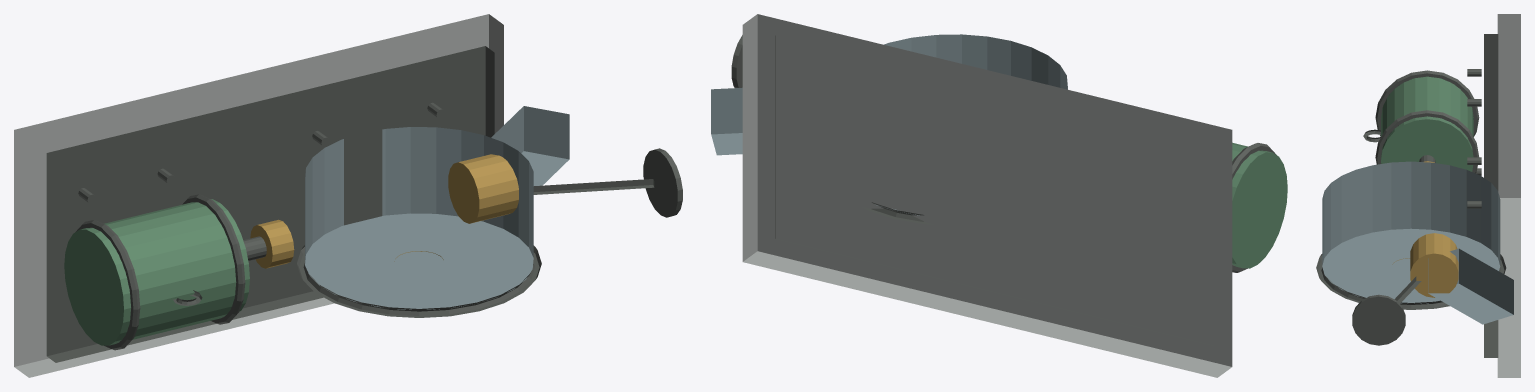
Rendered from generator.glb.
3 renders of one model, left to right at view 1: azimuth 30°, elevation 25°; view 2: azimuth 150°, elevation 25°; view 3: azimuth 270°, elevation 25°, orthographic. The views are drawn at different scales.
Visible parts, largest first — view 1: machine_bed, turbine_casing, concrete_base, generator_body, nozzle, pressure_pipe, casing_flange_front, handwheel, generator_end_-1.42, generator_end_-2.88, coupling, needle_valve_rod; view 2: concrete_base, generator_body, turbine_casing, pressure_pipe, machine_bed, generator_end_-2.88, casing_flange_front, handwheel; view 3: turbine_casing, concrete_base, generator_body, pressure_pipe, machine_bed, nozzle, handwheel, generator_end_-2.88, generator_end_-1.42, casing_flange_front, needle_valve_rod.
Part boxes in pixels (x1,y1,x2,y2): machine_bed: (46, 46, 494, 362); turbine_casing: (305, 127, 533, 309); concrete_base: (14, 14, 503, 377); generator_body: (64, 199, 249, 345); nozzle: (448, 154, 518, 223); pressure_pipe: (491, 106, 569, 185); casing_flange_front: (297, 245, 541, 317); handwheel: (643, 148, 682, 217); generator_end_-1.42: (182, 194, 245, 324); generator_end_-2.88: (76, 220, 140, 350); coupling: (250, 219, 294, 268); needle_valve_rod: (533, 179, 654, 194); concrete_base: (742, 14, 1232, 377); generator_body: (1232, 142, 1287, 268); turbine_casing: (875, 34, 1067, 215); pressure_pipe: (711, 87, 742, 155); machine_bed: (775, 35, 1213, 345); generator_end_-2.88: (1232, 143, 1276, 272); casing_flange_front: (861, 202, 933, 224); handwheel: (731, 35, 742, 87); turbine_casing: (1322, 161, 1500, 303); concrete_base: (1497, 14, 1520, 377); generator_body: (1381, 76, 1473, 171); pressure_pipe: (1428, 248, 1513, 324); machine_bed: (1484, 34, 1498, 357); nozzle: (1410, 233, 1458, 297); handwheel: (1352, 294, 1405, 345); generator_end_-2.88: (1375, 70, 1479, 136); generator_end_-1.42: (1375, 110, 1478, 173); casing_flange_front: (1316, 254, 1506, 309); needle_valve_rod: (1394, 276, 1421, 303).
Bounding box in the file's own units: 7.79 × 3.15 × 3.17.
